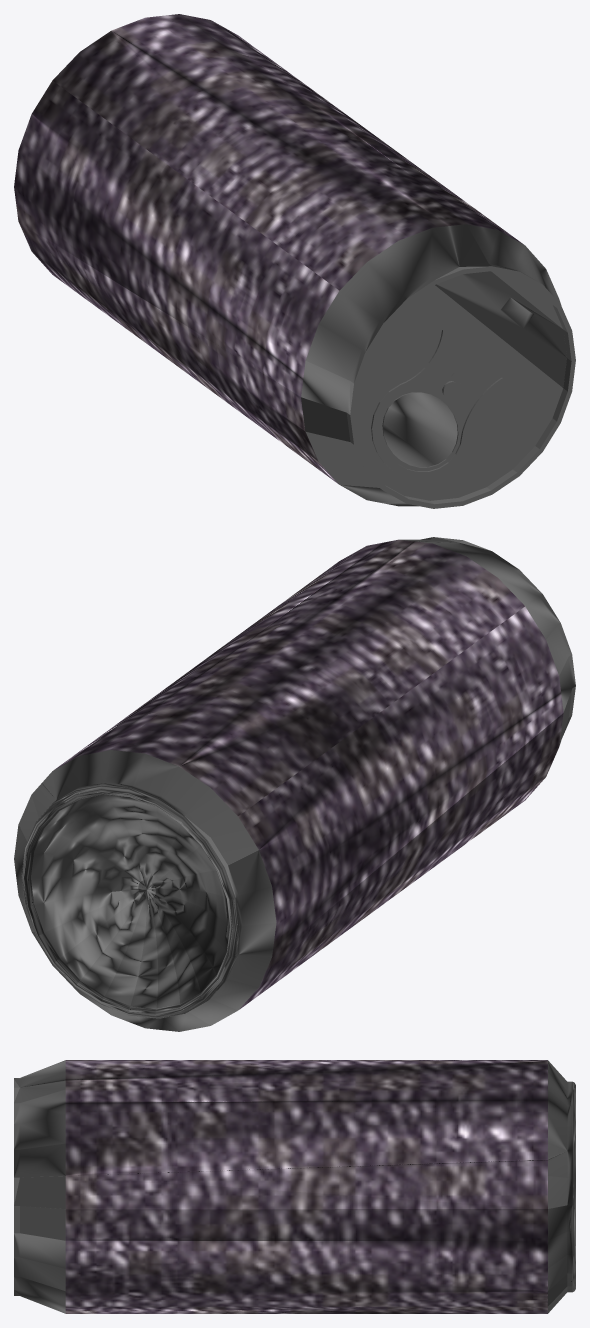
File: model_align.obj
The picture shows the model from 3 angles, top to bottom: view 1: azimuth 30°, elevation 25°; view 2: azimuth 150°, elevation 25°; view 3: azimuth 270°, elevation 25°; orthographic projection. The views are drawn at different scales.
Size of the model in its own units: 0.0632 by 0.0633 by 0.1396.
